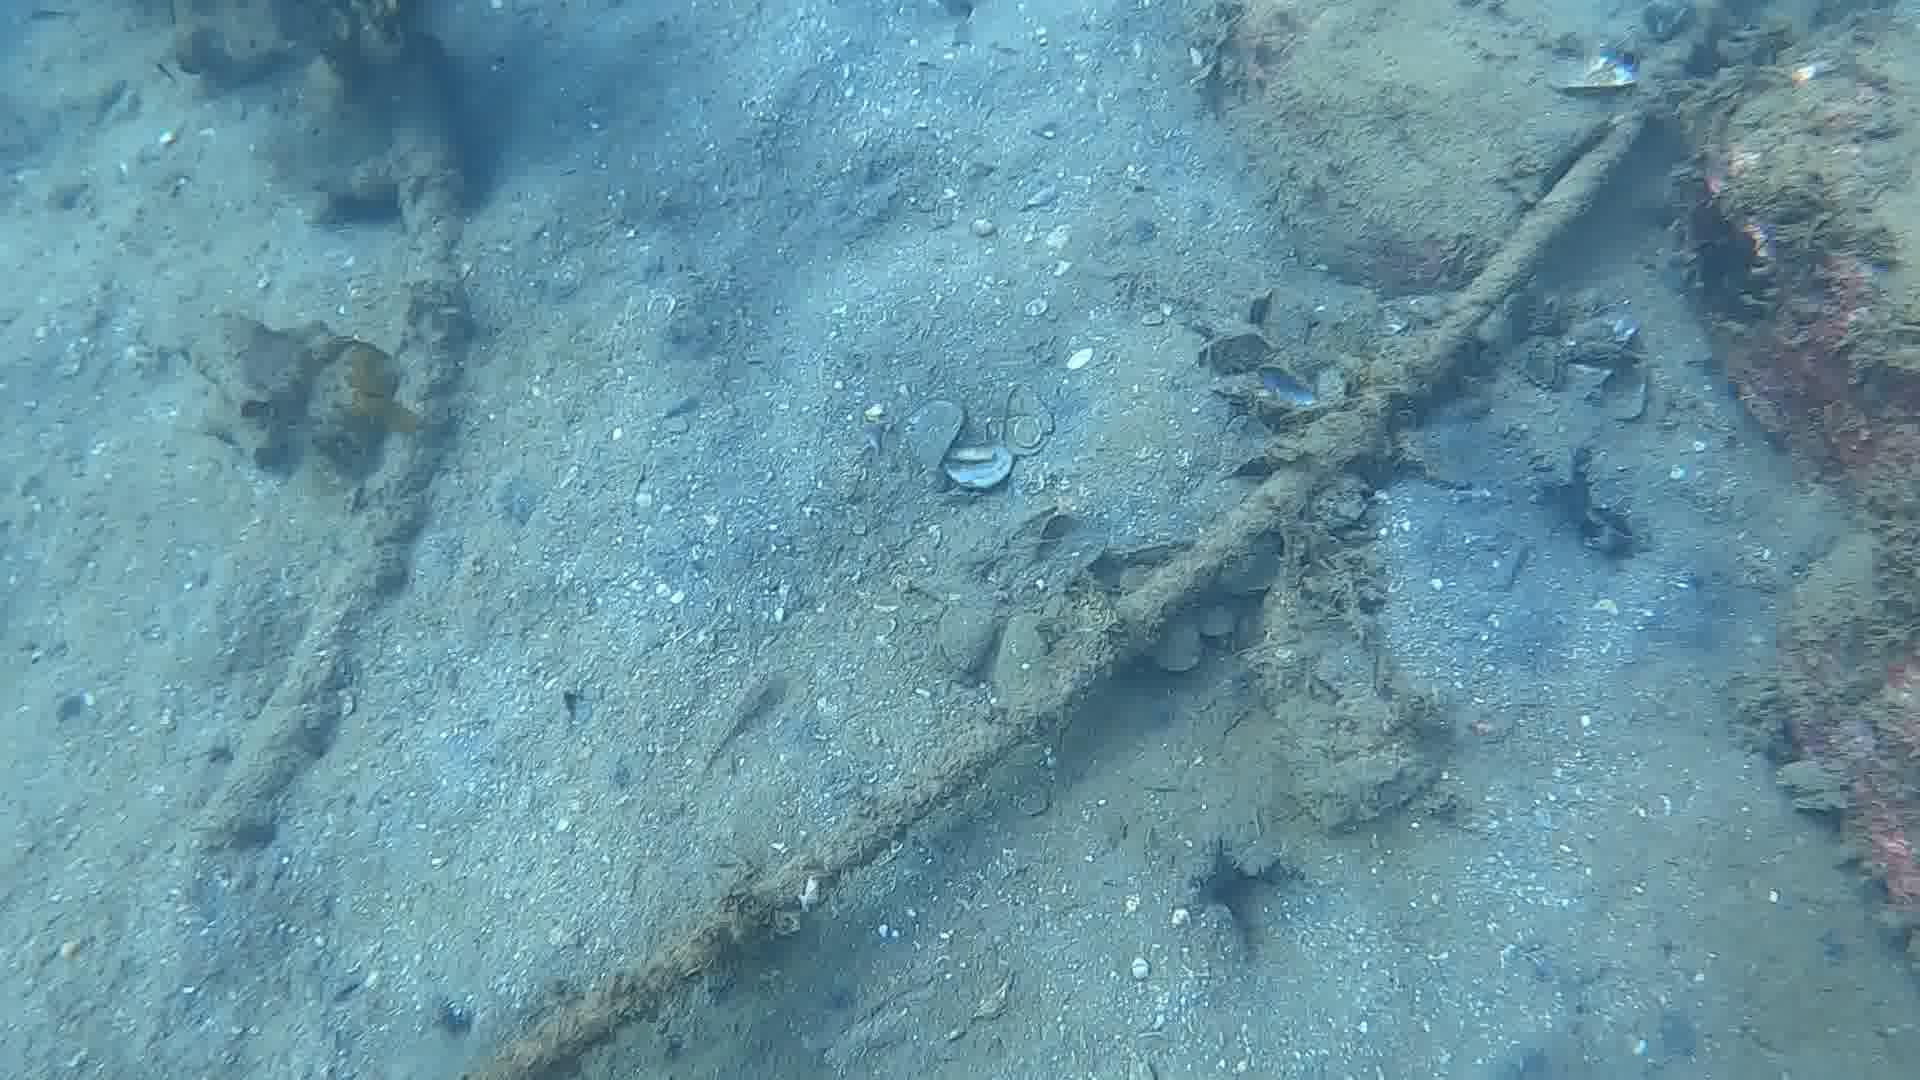rope: (454, 0, 1724, 1080), (179, 128, 464, 862)
